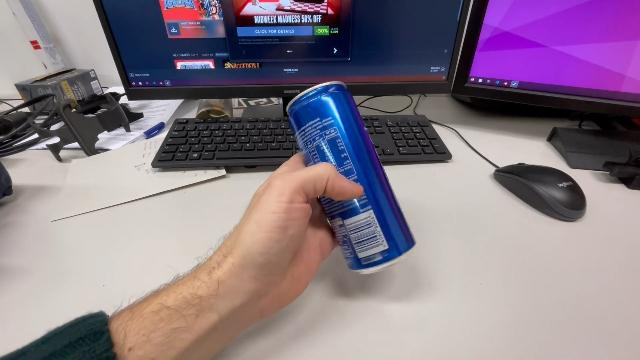Pepsi: (284, 76, 418, 276)
